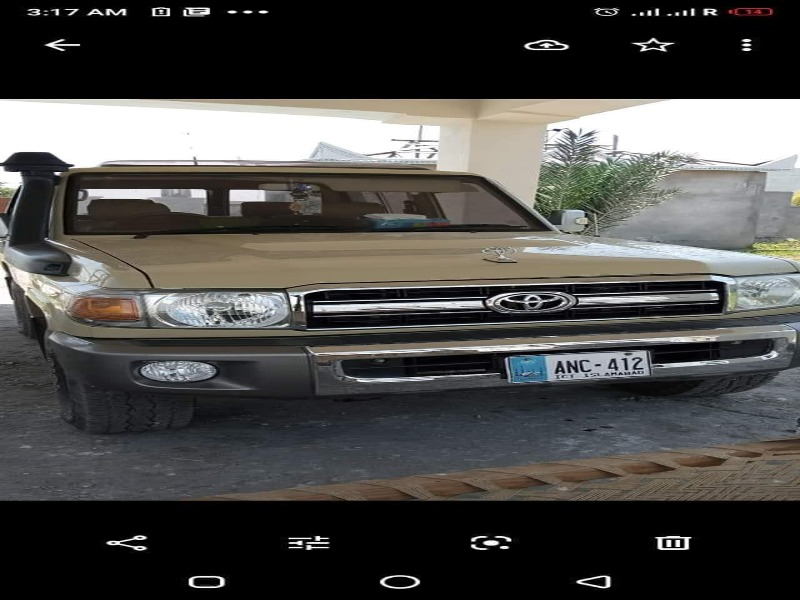License Plate: (502, 348, 656, 385)
